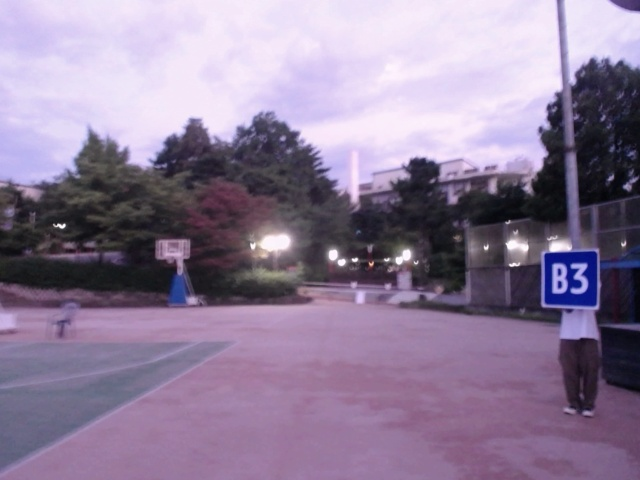delivery_b3: (541, 248, 600, 311)
